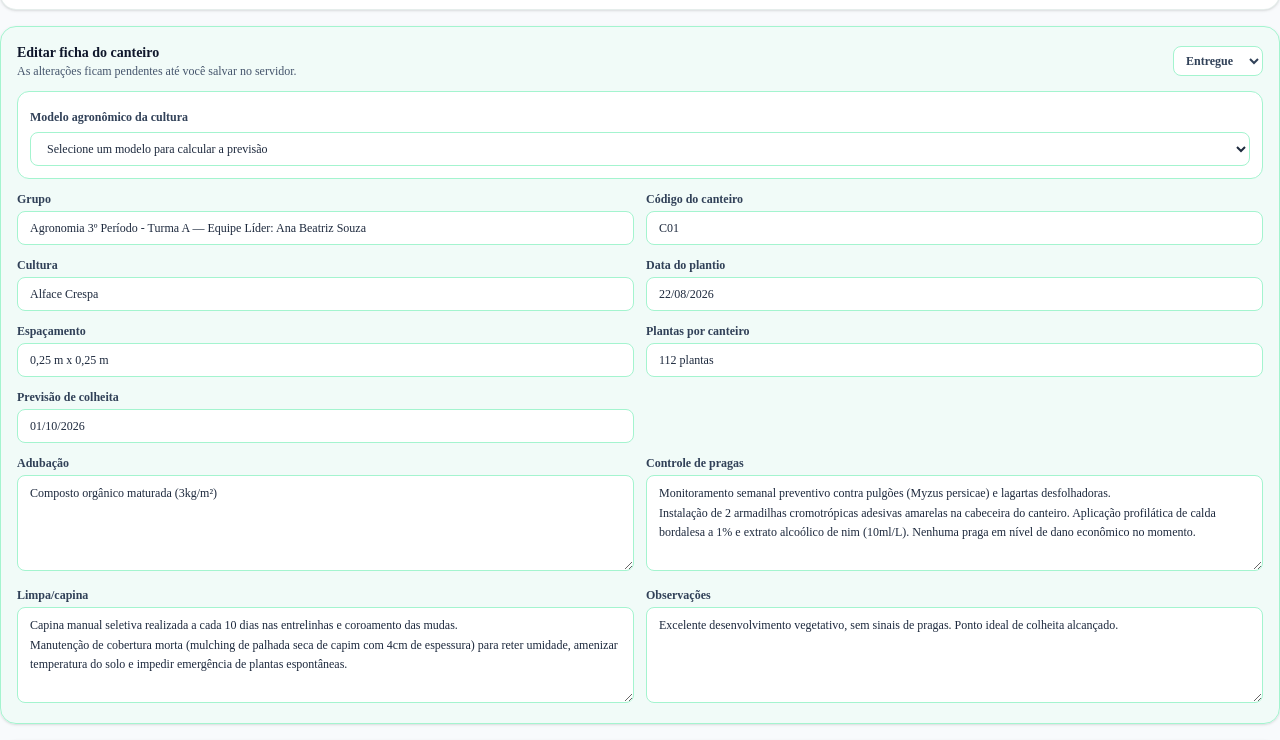
Test: calcularPlantasDoCanteiro › sincroniza a cultura e o nome cientifico ao selecionar outro modelo
The image size is (1280, 740).
Step 1. Select "Batata - Solanum tuberosum L." in the dropdown labelled "Modelo agronômico da cultura" → (640, 149), box [30,132,1250,166]
(page scrolled)
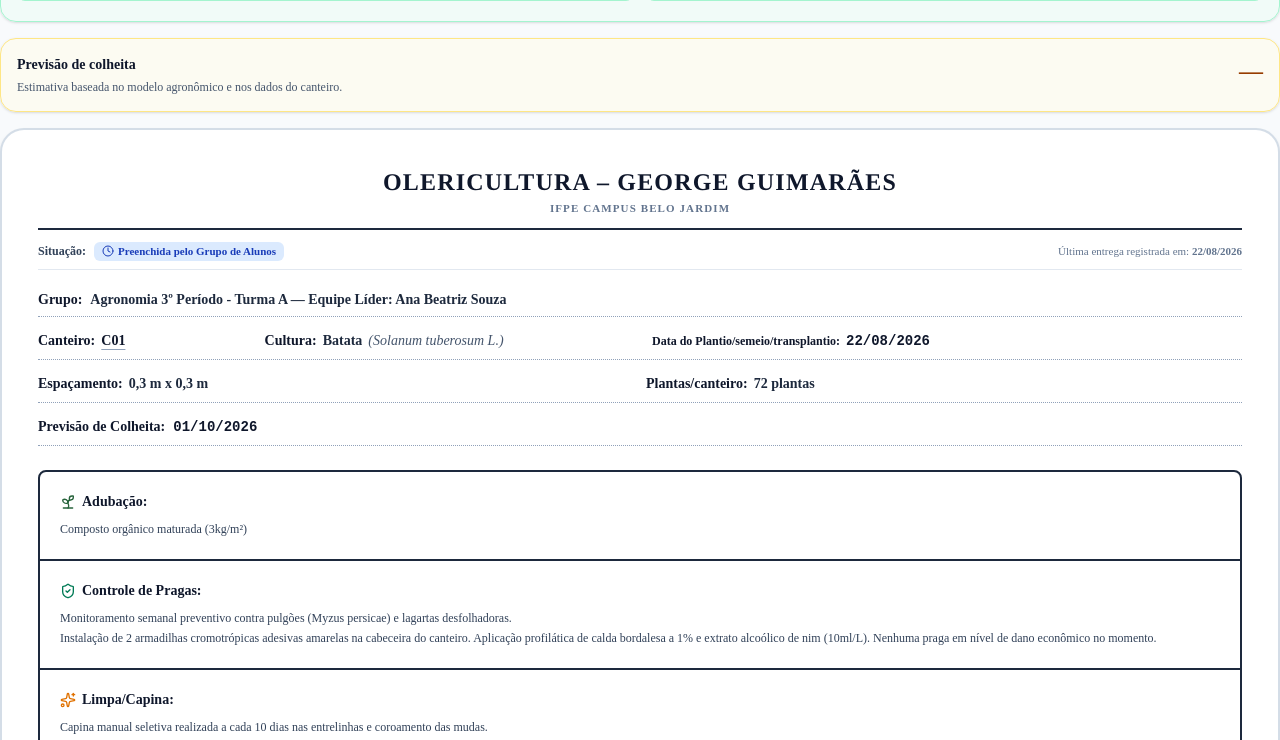
Now the text "(Solanum tuberosum L.)" is shown, box [368,331,504,351]
